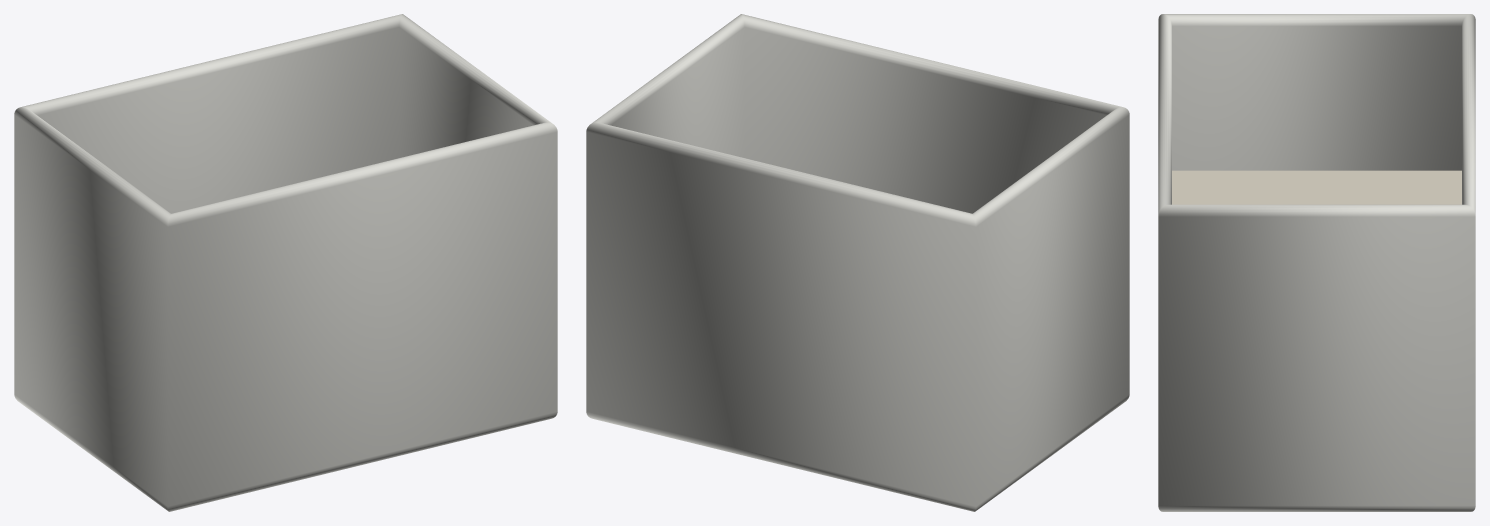
File: f32085fd-6fea-4954-a2d6-bb5273889e1e_model.glb
The picture shows the model from 3 angles, left to right: view 1: azimuth 30°, elevation 25°; view 2: azimuth 150°, elevation 25°; view 3: azimuth 270°, elevation 25°; orthographic projection. The views are drawn at different scales.
Visible parts, largest first — view 1: wall_0; view 2: wall_0; view 3: wall_0, Floor.
Boxes of the visible parts, x1,y1,x2,y2 form: wall_0: [14, 14, 557, 511]; wall_0: [586, 14, 1129, 511]; wall_0: [1158, 14, 1475, 511]; Floor: [1172, 170, 1461, 204].
Bounding box in the file's own units: 8.76 × 6.37 × 5.98.
